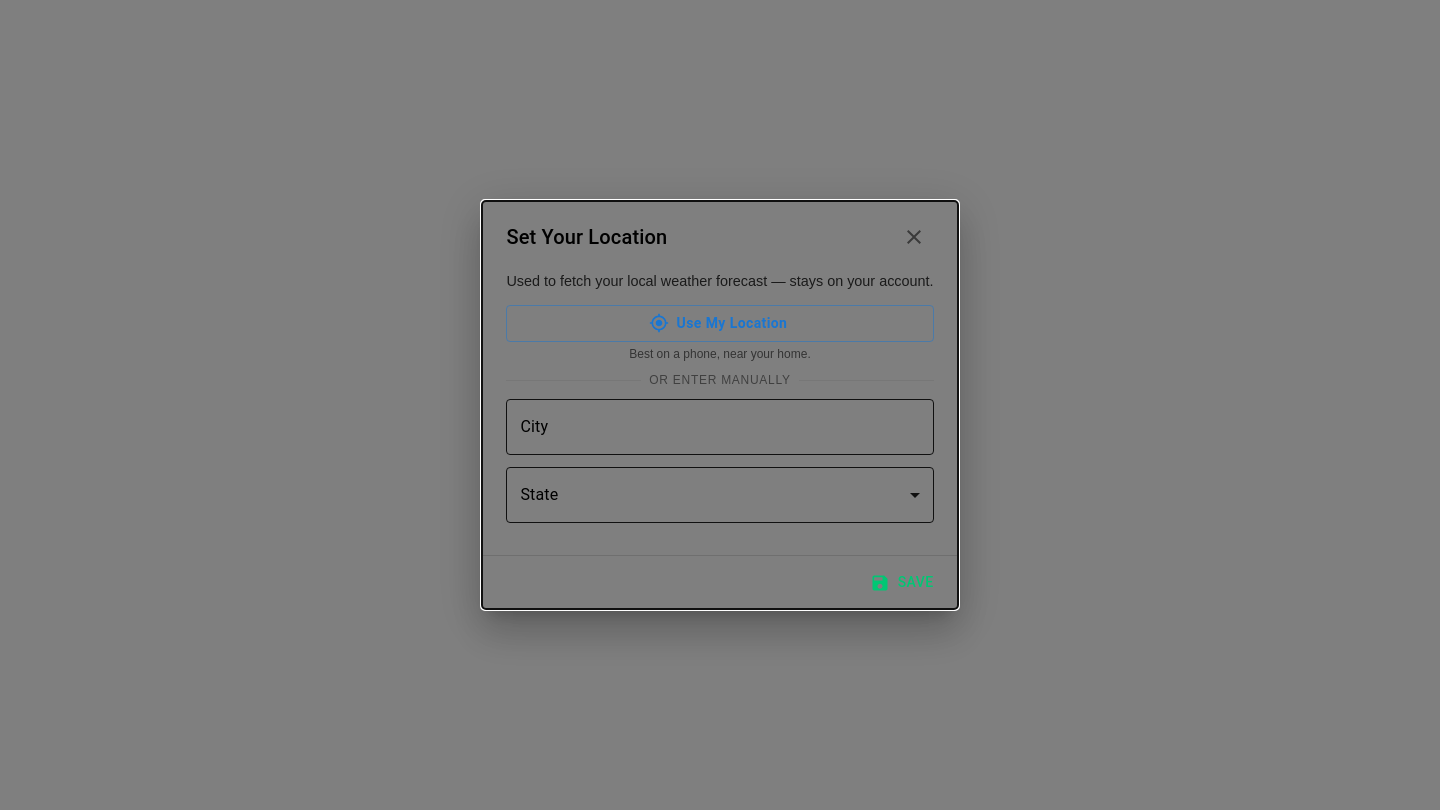
it: CityPrompt › should show captured accuracy badge after a successful lookup
The width and height of the screenshot is (1440, 810).
What coordinates should you click on to do the following:
click the button "Use My Location"
I would click on:
 (720, 323)
Its box is [506,305,934,342].
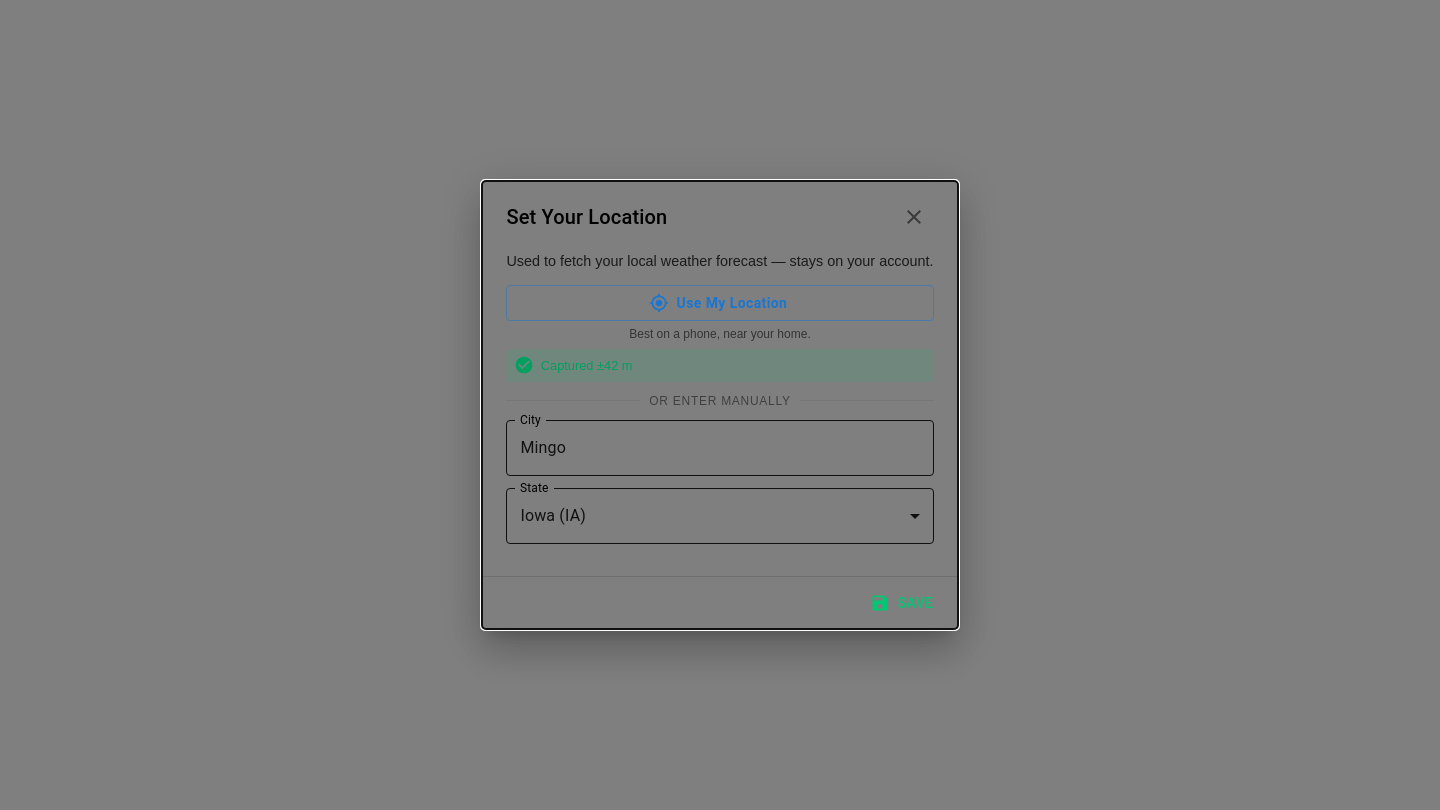
Result: the text "Captured ±42 m" is shown at [541,358,632,373]
